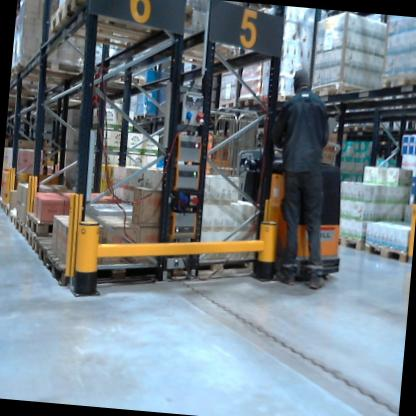pallet: (42, 0, 194, 61), (44, 246, 161, 303), (62, 0, 192, 40), (142, 27, 240, 75), (32, 227, 117, 276), (14, 55, 97, 83), (312, 77, 377, 107), (11, 61, 85, 87), (22, 205, 70, 240), (86, 70, 148, 94), (376, 68, 416, 101), (360, 239, 408, 265), (21, 224, 61, 254), (260, 89, 308, 111), (327, 231, 368, 251), (235, 93, 263, 114), (216, 98, 236, 114), (4, 202, 21, 218), (14, 217, 25, 239), (136, 111, 154, 121), (9, 210, 17, 227), (0, 199, 8, 215), (412, 115, 416, 134)
pallet_truck: (219, 116, 368, 290)
